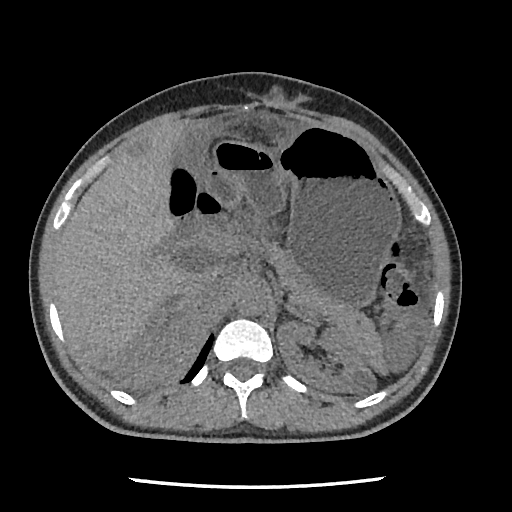Lesion: (346, 367, 379, 400)
